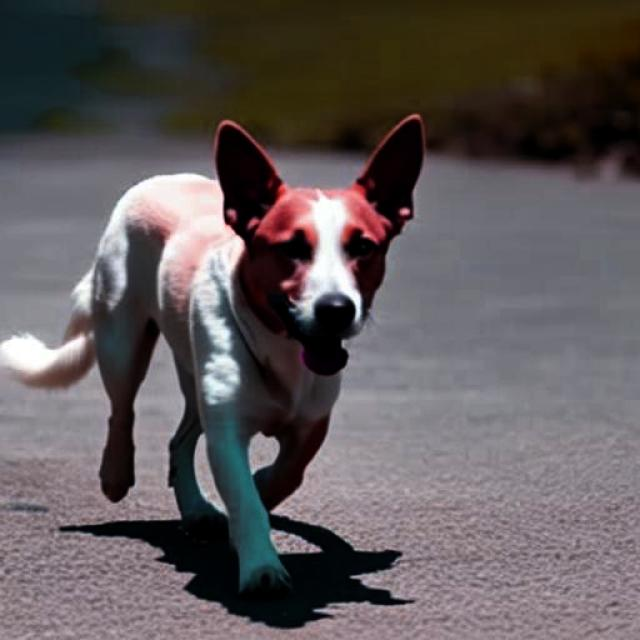Dog: (0, 113, 426, 597)
